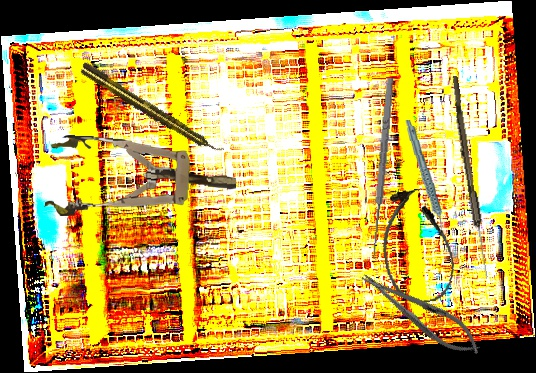Cannula: (373, 185, 460, 308)
Handpiece: (77, 60, 226, 160), (404, 118, 444, 234)
Hook Surgical: (368, 77, 402, 261)
Needle Holder: (353, 261, 489, 365)
Speculum: (44, 134, 238, 225)
Surgical Spoon: (447, 75, 493, 279)
